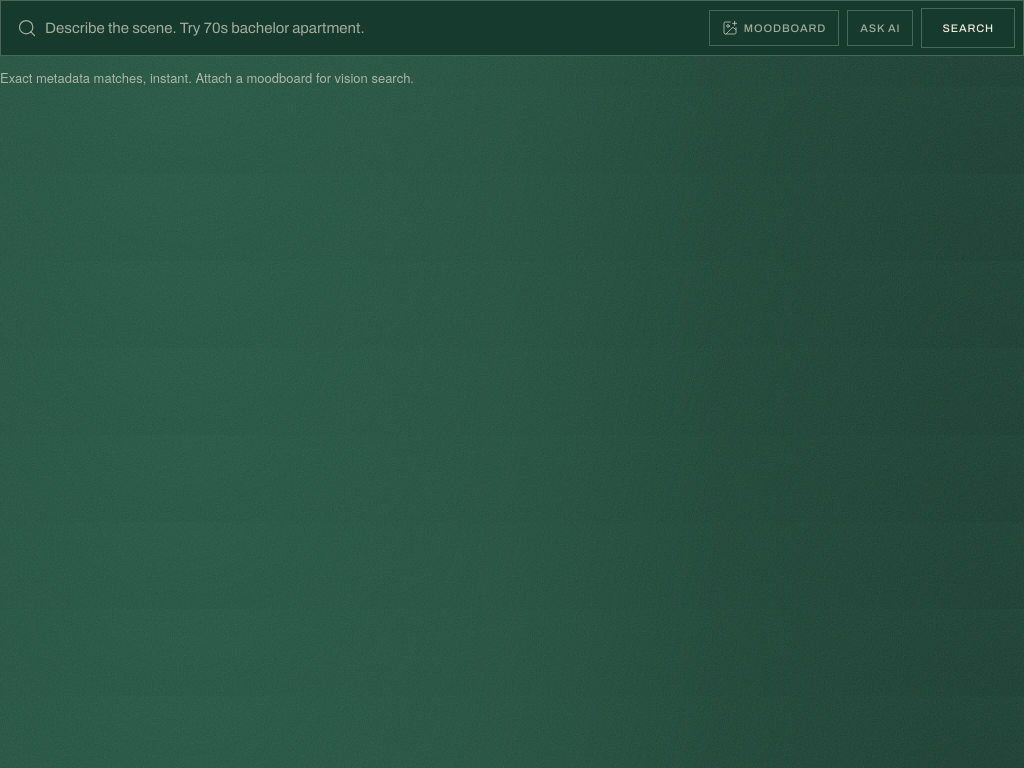
it: AI engine › arms the engine and opens the modal from the chip, and closing keeps it armed
The image size is (1024, 768).
Click the button "Ask AI" at [880, 28], box [847, 10, 913, 46]
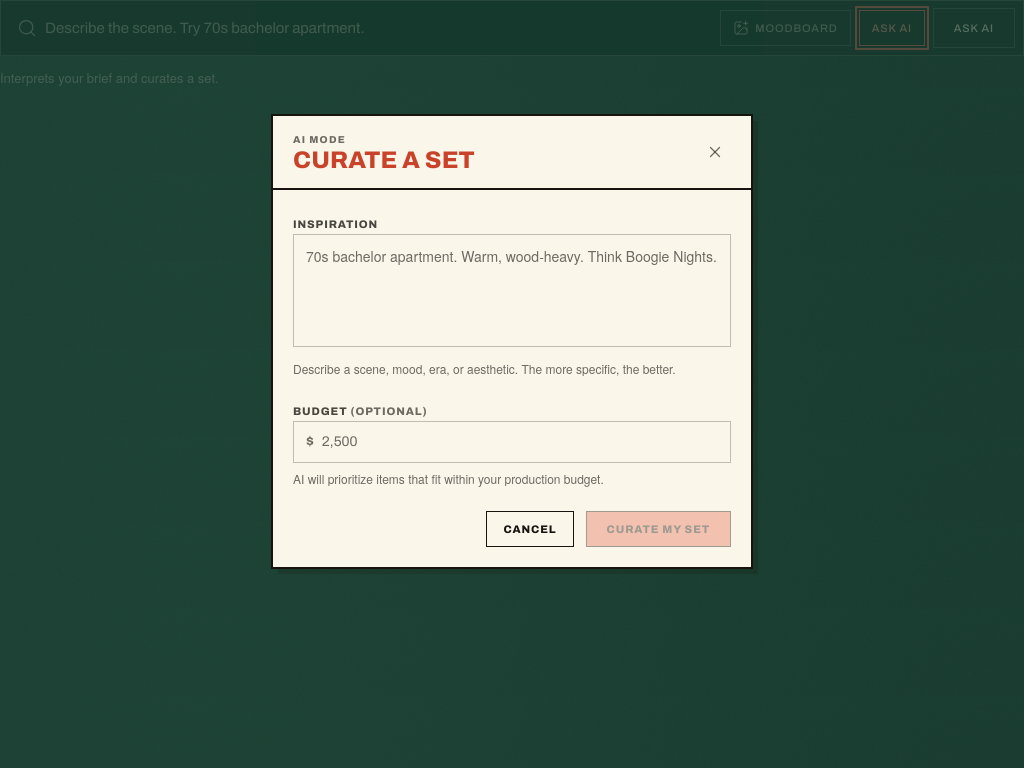
Now the dialog is shown, box [256, 115, 768, 568]
Click the button named "Close" at [715, 152], box [699, 136, 731, 168]
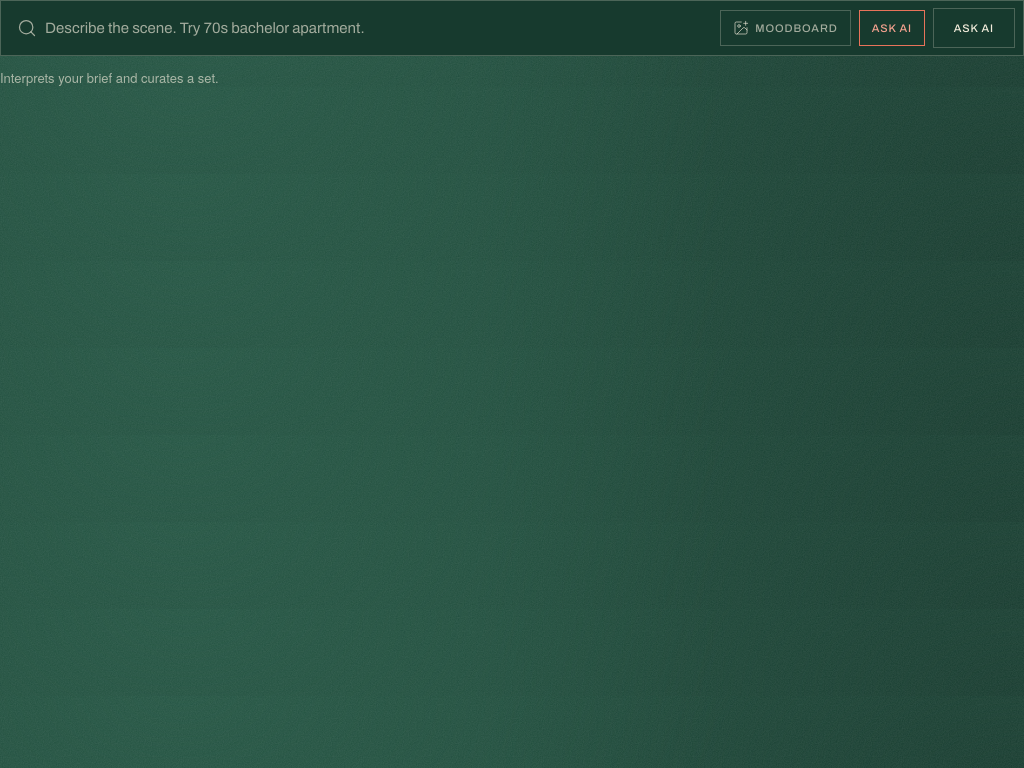
Expected: the 1st button "Ask AI" is shown, [859, 10, 925, 46]
Now the submit button reads "Ask AI", box [933, 8, 1015, 48]
Now the dialog is gone
